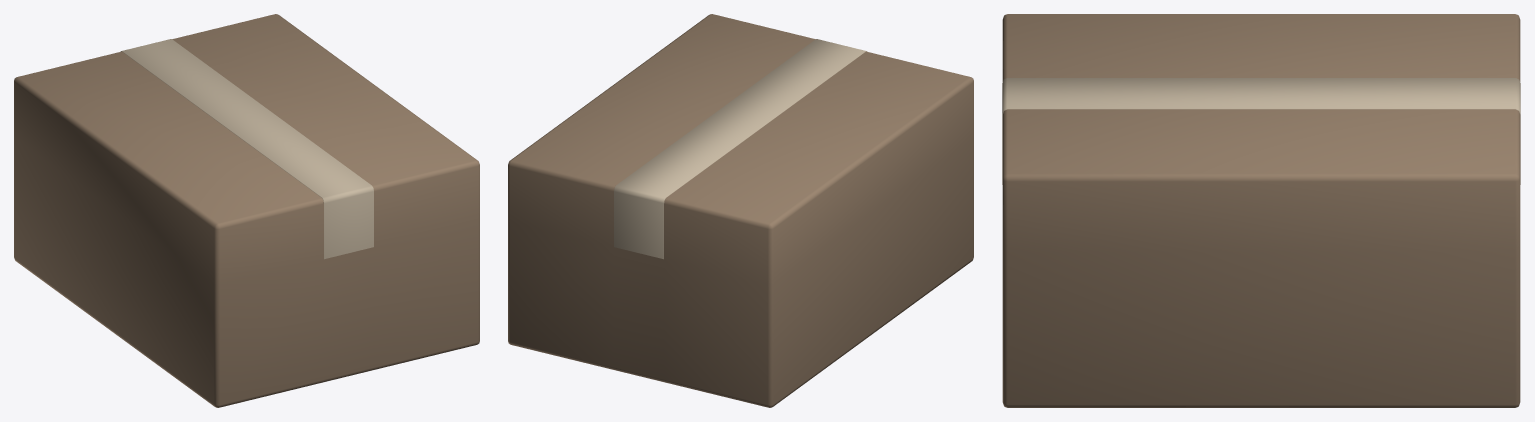
The model's file is big_package.fbx.
3 views of the same model, side by side, from view 1: azimuth 30°, elevation 25°; view 2: azimuth 150°, elevation 25°; view 3: azimuth 270°, elevation 25° (orthographic). The views are drawn at different scales.
Visible parts, largest first — view 1: big_package; view 2: big_package; view 3: big_package.
Boxes of the visible parts, <box> form: big_package: <box>14,14,479,407</box>; big_package: <box>508,14,973,407</box>; big_package: <box>1002,14,1520,407</box>.
Bounding box in the file's own units: 59.98 × 39.98 × 79.97.
